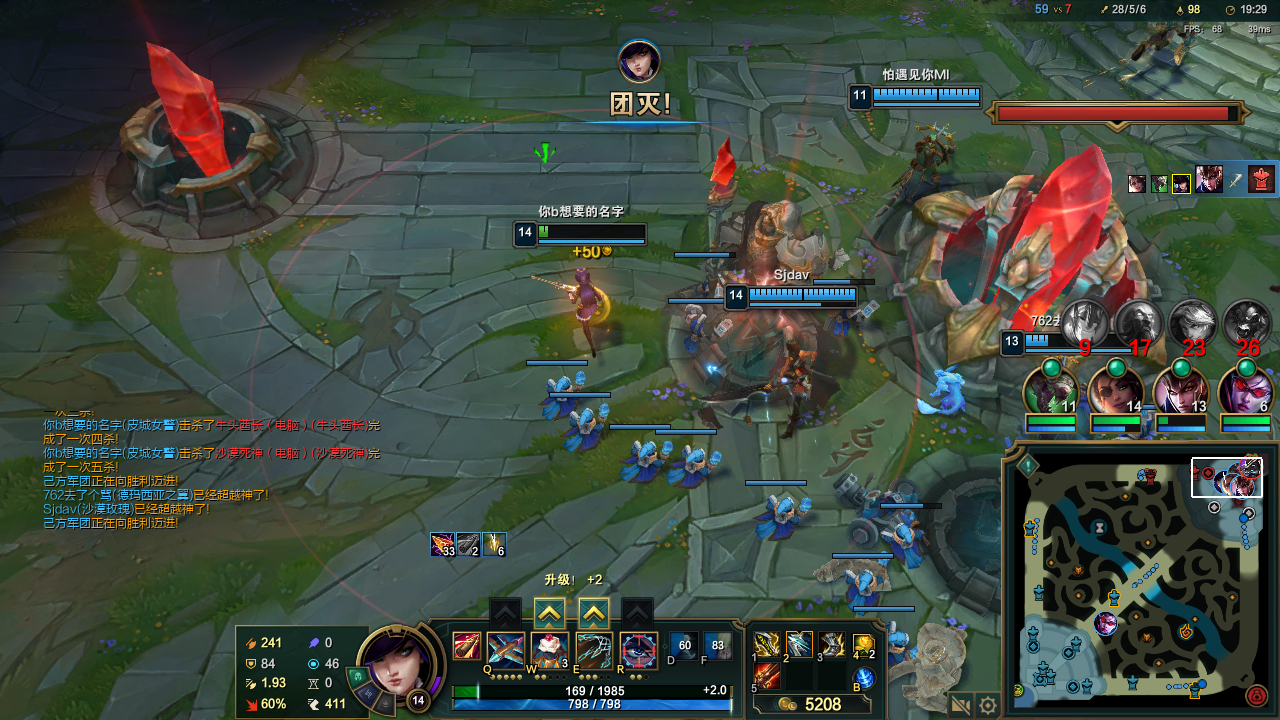DFDSJ: (915, 103, 1178, 358)
Shenji: (577, 604, 609, 631)
Tuijianshengji: (533, 595, 561, 623)
WFXB: (871, 514, 935, 565), (759, 494, 813, 543), (618, 435, 668, 480), (845, 566, 892, 607), (560, 394, 596, 446), (669, 446, 715, 480), (537, 367, 571, 412), (893, 634, 923, 666)
